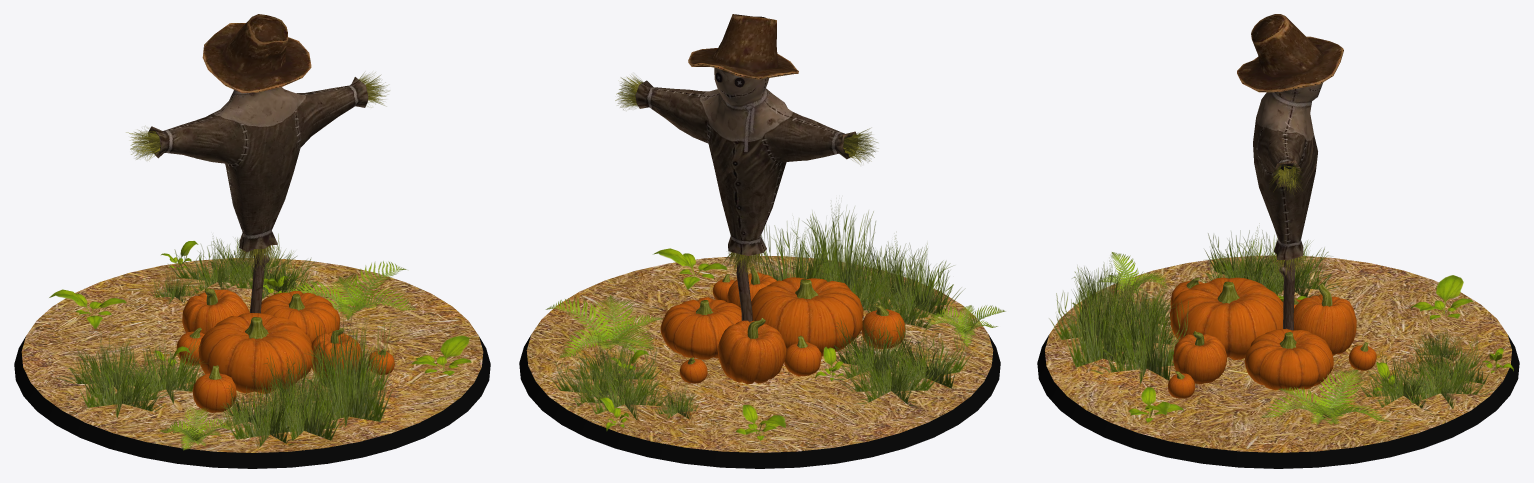
File: pumpkins.glb
3 renders of one model, left to right at view 1: azimuth 30°, elevation 25°; view 2: azimuth 150°, elevation 25°; view 3: azimuth 270°, elevation 25°, orthographic.
Parts seen in each view (by area): view 1: defaultMaterial (×5); view 2: defaultMaterial (×5); view 3: defaultMaterial (×5).
Part boxes in pixels (box(x1,y1,x2,y2)): defaultMaterial (×5): box(14, 14, 490, 468); defaultMaterial (×5): box(519, 14, 1005, 468); defaultMaterial (×5): box(1037, 14, 1519, 468).
Size of the model in its own units: 2 by 1.62 by 2.
5 materials, 4 textured.
